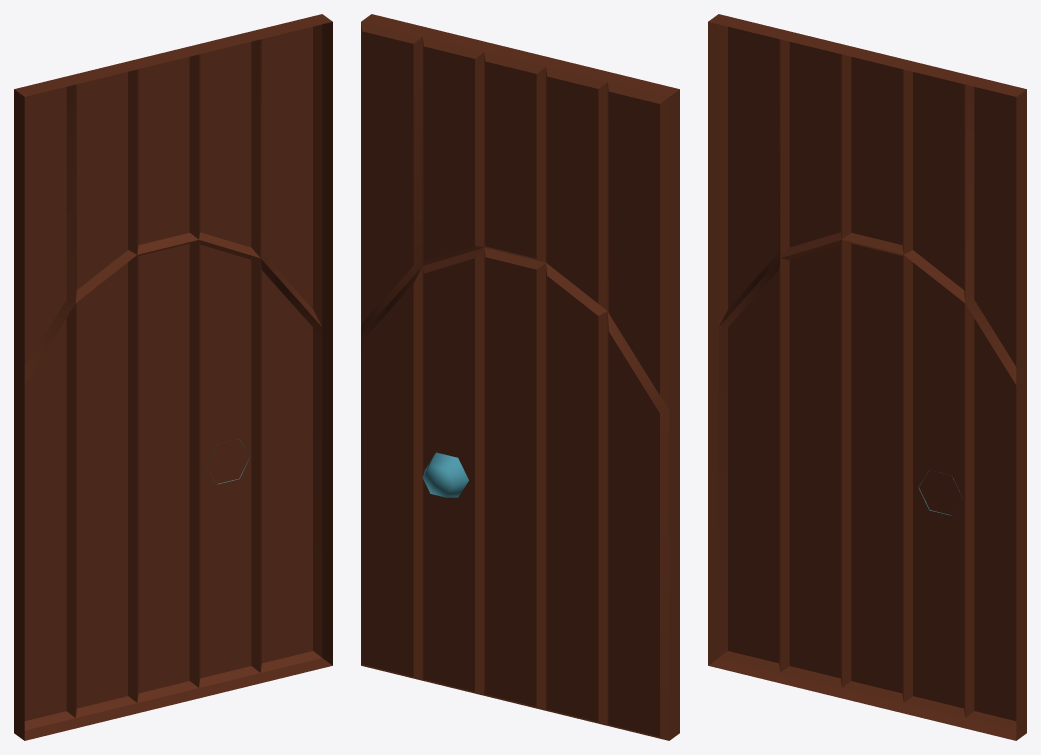
File: Door.fbx
The picture shows the model from 3 angles, left to right: view 1: azimuth 30°, elevation 25°; view 2: azimuth 150°, elevation 25°; view 3: azimuth 330°, elevation 25°; orthographic projection.
Visible parts, largest first — view 1: Wood_Door_LOD0; view 2: Wood_Door_LOD0; view 3: Wood_Door_LOD0.
Boxes of the visible parts, x1,y1,x2,y2 form: Wood_Door_LOD0: (14, 14, 332, 740); Wood_Door_LOD0: (361, 14, 679, 740); Wood_Door_LOD0: (708, 14, 1026, 740).
Size of what is drawn, in the model's own units: 0.00711 by 0.0142 by 0.000988.
